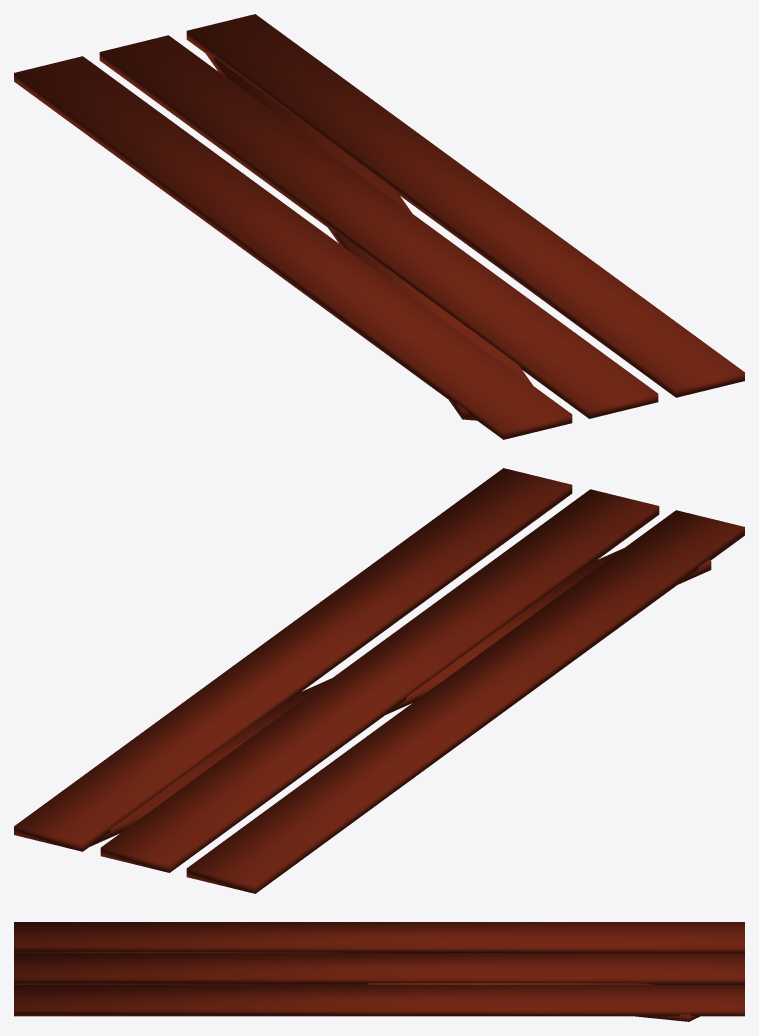
File: tablones.FBX
3 views of the same model, one above another, from view 1: azimuth 30°, elevation 25°; view 2: azimuth 150°, elevation 25°; view 3: azimuth 270°, elevation 25° (orthographic). The views are drawn at different scales.
Parts seen in each view (by area): view 1: Object003; view 2: Object003; view 3: Object003.
Boxes of the visible parts, bbox=[...] form: Object003: bbox=[14, 14, 744, 439]; Object003: bbox=[14, 468, 744, 893]; Object003: bbox=[14, 922, 744, 1021].
Bounding box in the file's own units: 25.35 × 1.44 × 86.73.
